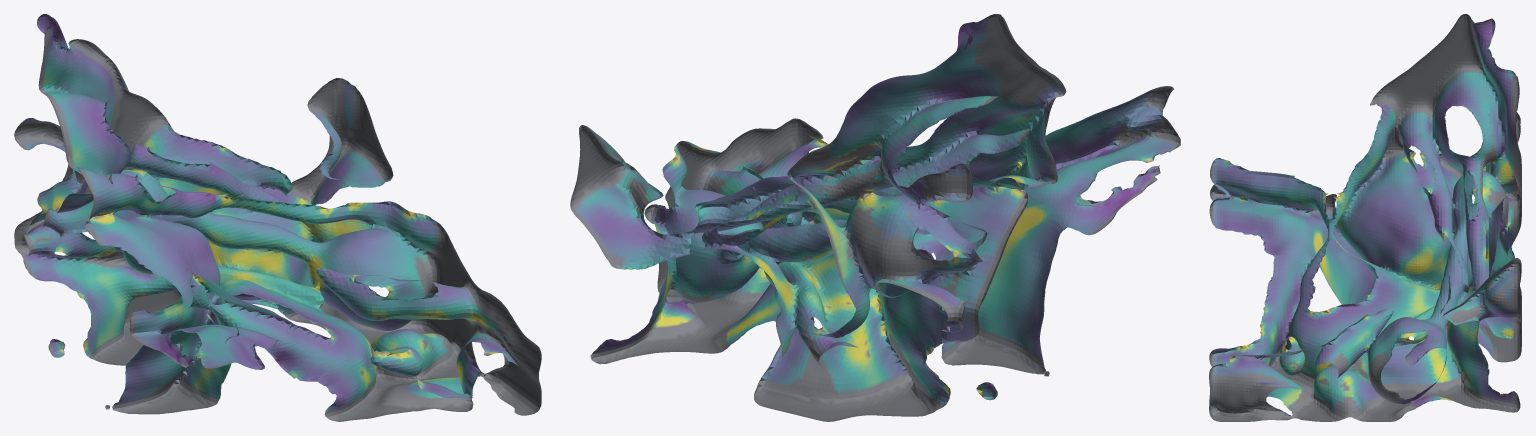
The model's file is crop1142.glb.
3 views of the same model, side by side, from view 1: azimuth 30°, elevation 25°; view 2: azimuth 150°, elevation 25°; view 3: azimuth 270°, elevation 25° (orthographic). The views are drawn at different scales.
Visible parts, largest first — view 1: geometry_0; view 2: geometry_0; view 3: geometry_0.
Part boxes in pixels (x1,y1,x2,y2): geometry_0: (14, 14, 541, 421); geometry_0: (570, 14, 1180, 421); geometry_0: (1209, 14, 1521, 421).
Bounding box in the file's own units: 800 × 791 × 799.
